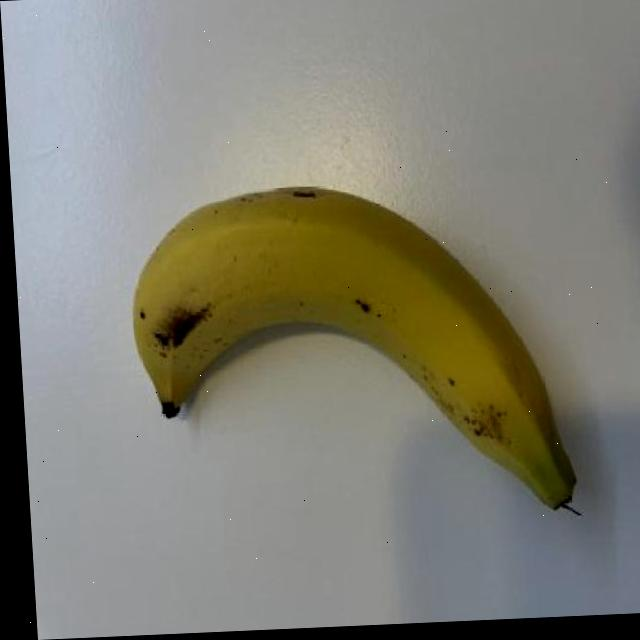banana: (116, 169, 580, 539)
